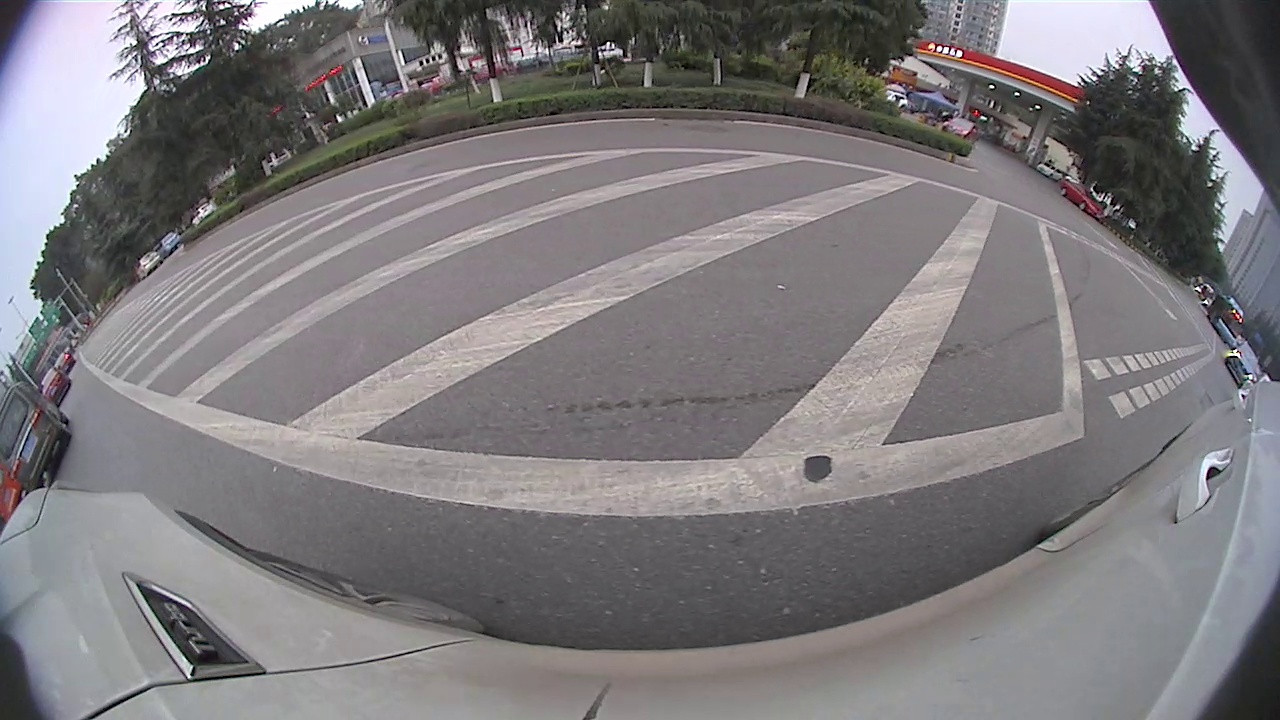bus: (1203, 288, 1247, 344)
car: (0, 379, 77, 490), (1058, 177, 1105, 220), (1224, 337, 1261, 389), (941, 110, 982, 144)
